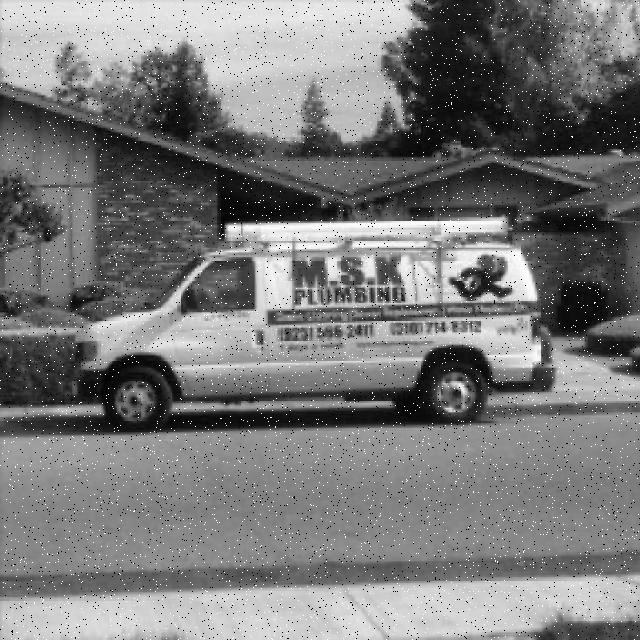Van: (73, 216, 557, 434)
